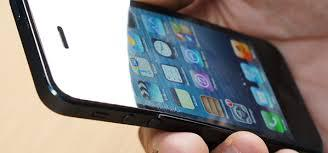Hand: (122, 0, 328, 153)
Smartphone: (11, 0, 324, 150)
